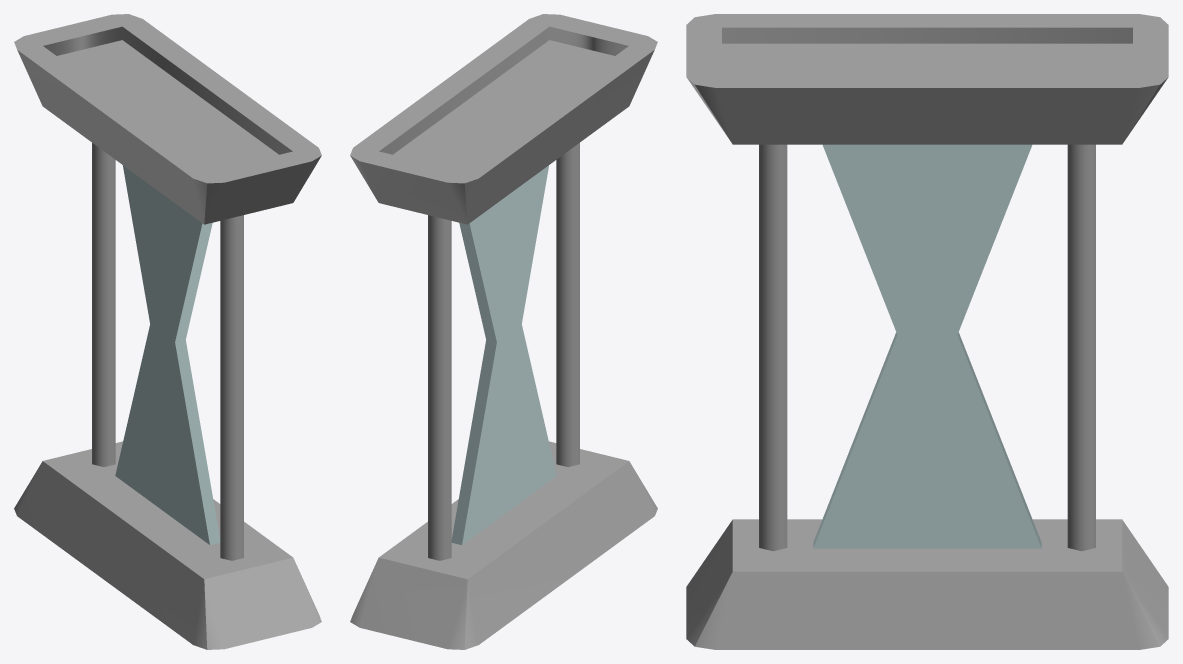
File: GlassWall_X.fbx
3 views of the same model, side by side, from view 1: azimuth 30°, elevation 25°; view 2: azimuth 150°, elevation 25°; view 3: azimuth 270°, elevation 25° (orthographic). The views are drawn at different scales.
Parts seen in each view (by area): view 1: Table_Top, Table_Bottom, Glass, Pillar_Right2, Pillar_Right; view 2: Table_Top, Table_Bottom, Glass, Pillar_Right, Pillar_Right2; view 3: Table_Top, Glass, Table_Bottom, Pillar_Right, Pillar_Right2.
Part boxes in pixels (x1=…): Table_Top: x1=14, y1=14, x2=321, y2=224; Table_Bottom: x1=14, y1=441, x2=321, y2=649; Glass: x1=115, y1=165, x2=220, y2=544; Pillar_Right2: x1=220, y1=215, x2=243, y2=560; Pillar_Right: x1=92, y1=143, x2=115, y2=466; Table_Top: x1=350, y1=14, x2=657, y2=224; Table_Bottom: x1=350, y1=441, x2=657, y2=649; Glass: x1=451, y1=165, x2=556, y2=544; Pillar_Right: x1=428, y1=215, x2=451, y2=560; Pillar_Right2: x1=556, y1=143, x2=579, y2=466; Table_Top: x1=686, y1=14, x2=1168, y2=144; Glass: x1=813, y1=144, x2=1041, y2=548; Table_Bottom: x1=686, y1=519, x2=1168, y2=649; Pillar_Right: x1=1067, y1=144, x2=1095, y2=551; Pillar_Right2: x1=759, y1=144, x2=787, y2=551.
Bounding box in the file's own units: 102 × 360 × 280.
